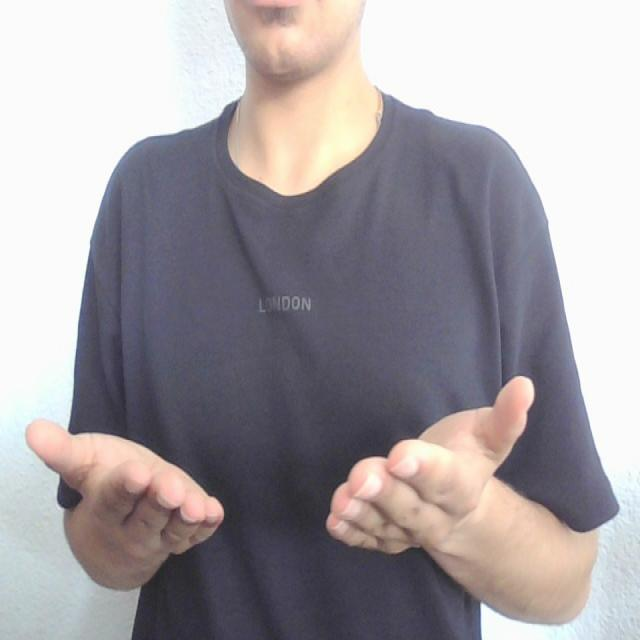Evet: (23, 368, 546, 571)
